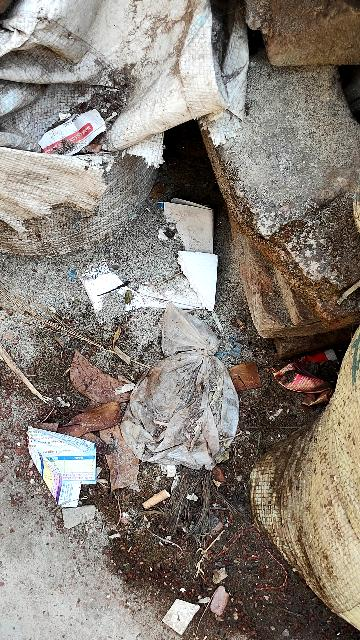cocksheet: (167, 238, 225, 314)
